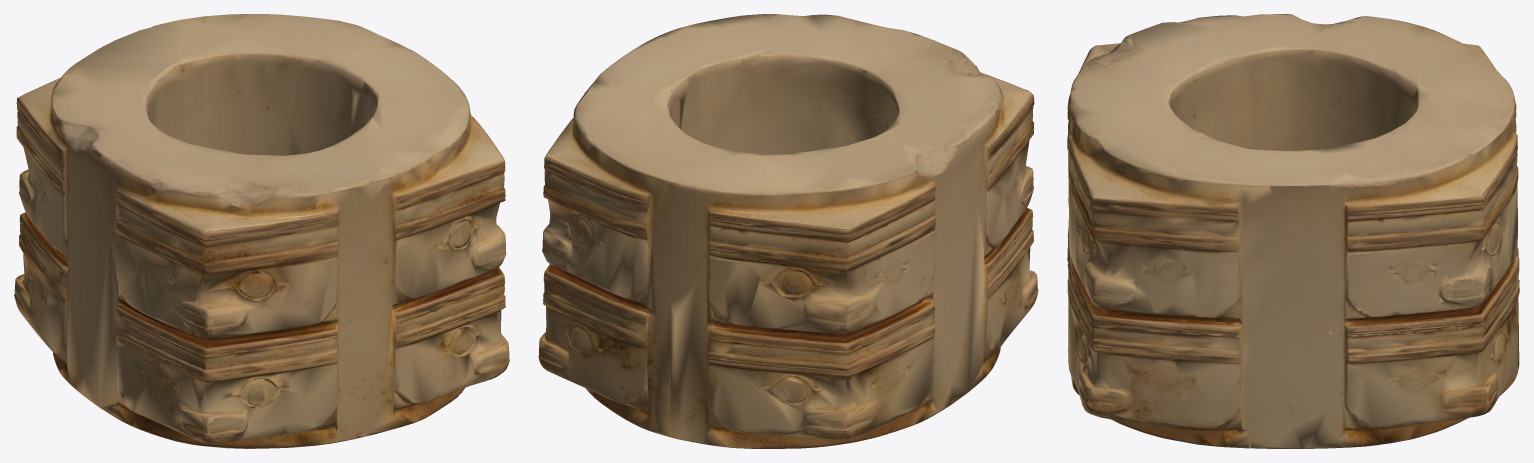
Rendered from liangzhu-early-roaming.glb.
3 renders of one model, left to right at view 1: azimuth 30°, elevation 25°; view 2: azimuth 150°, elevation 25°; view 3: azimuth 270°, elevation 25°, orthographic. The views are drawn at different scales.
Parts seen in each view (by area): view 1: node_0; view 2: node_0; view 3: node_0.
Part boxes in pixels (left/top/right/bottom): node_0: left=14, top=14, right=509, bottom=448; node_0: left=538, top=14, right=1038, bottom=448; node_0: left=1067, top=14, right=1519, bottom=448.
Bounding box in the file's own units: 0.8369 × 0.5926 × 0.9147.
1 material, 1 textured.
